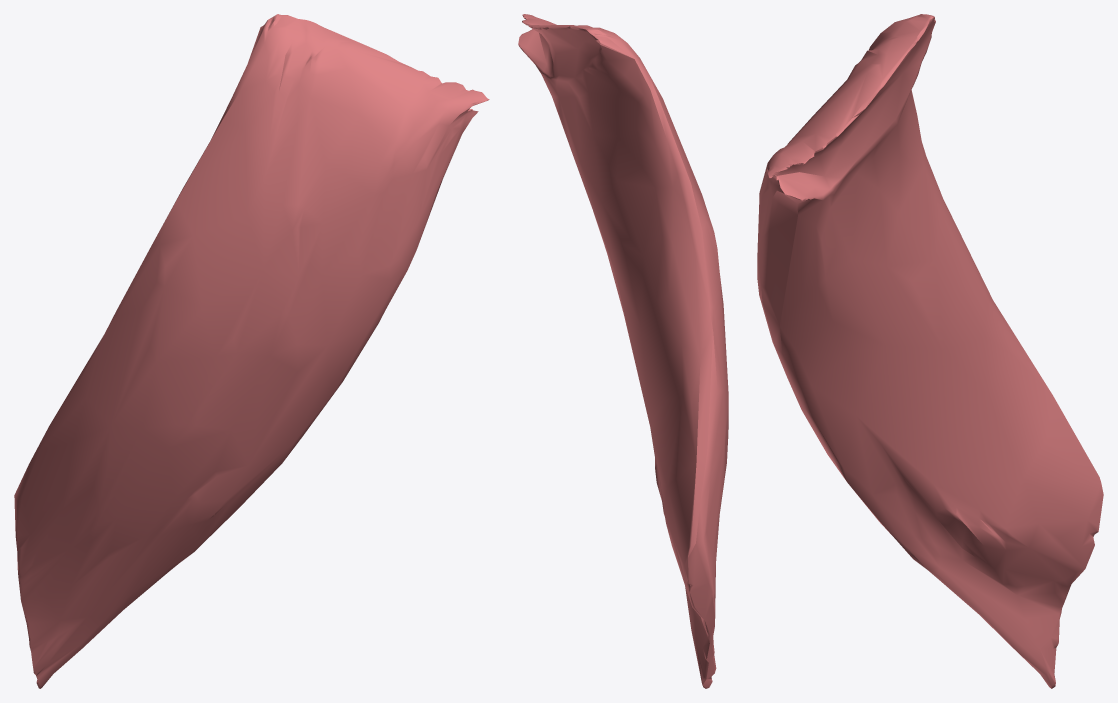
3 views of the same model, side by side, from view 1: azimuth 30°, elevation 25°; view 2: azimuth 150°, elevation 25°; view 3: azimuth 270°, elevation 25° (orthographic). The views are drawn at different scales.
Parts seen in each view (by area): view 1: FJ1427; view 2: FJ1427; view 3: FJ1427.
Part boxes in pixels (left/top/right/bottom): FJ1427: left=14, top=14, right=489, bottom=688; FJ1427: left=518, top=14, right=728, bottom=688; FJ1427: left=757, top=14, right=1103, bottom=688.
Bounding box in the file's own units: 0.0754 × 0.14 × 0.0565.
